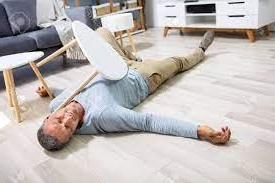fall: (36, 28, 235, 159)
